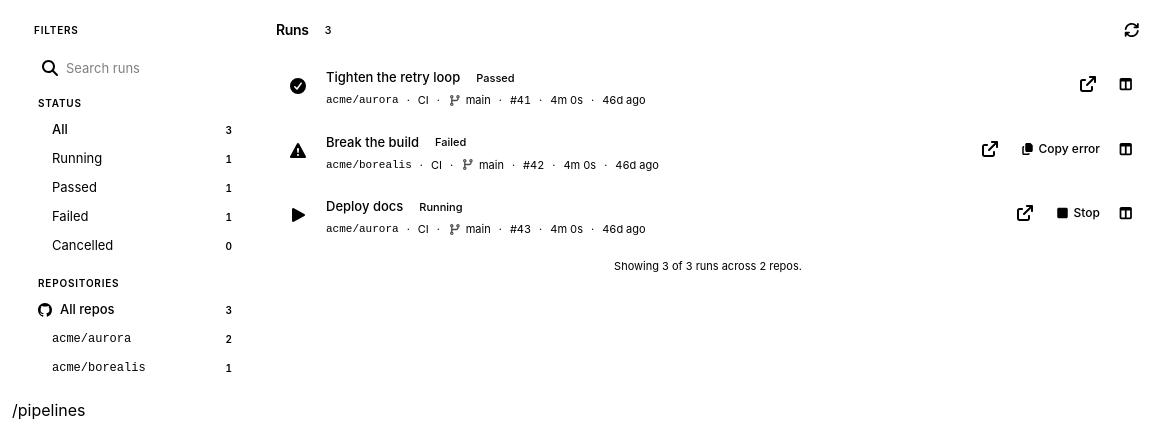
Test case: PipelinesPage keeping the last list › keeps showing the runs that did load when a later refresh fails
Expected: the text "Tighten the retry loop" is shown, [326,69,460,87]
Click the button named "Refresh runs": (1132, 30) [1116,14,1148,46]
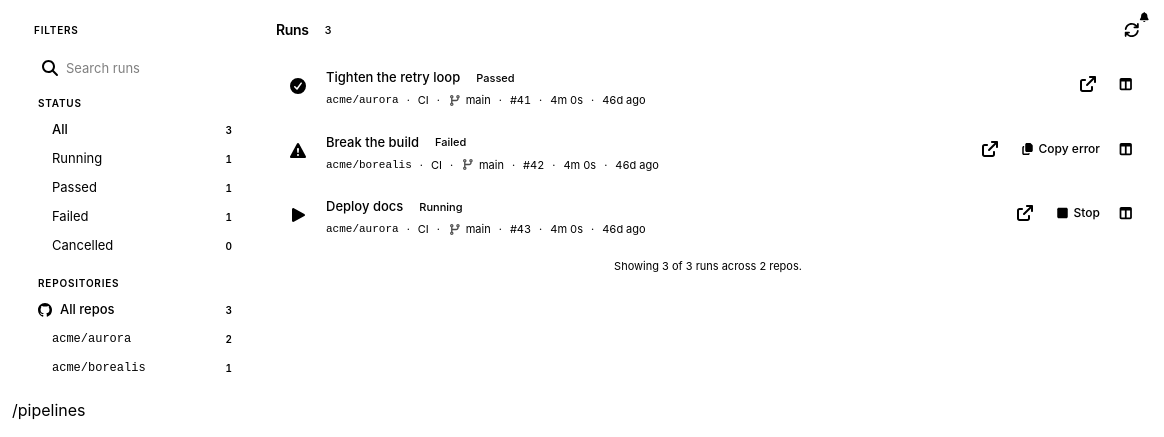
Expected: the text "Tighten the retry loop" is shown, [326,69,460,87]
Now the button named "Refresh runs, last refresh failed" is shown, box [1116,14,1148,46]
